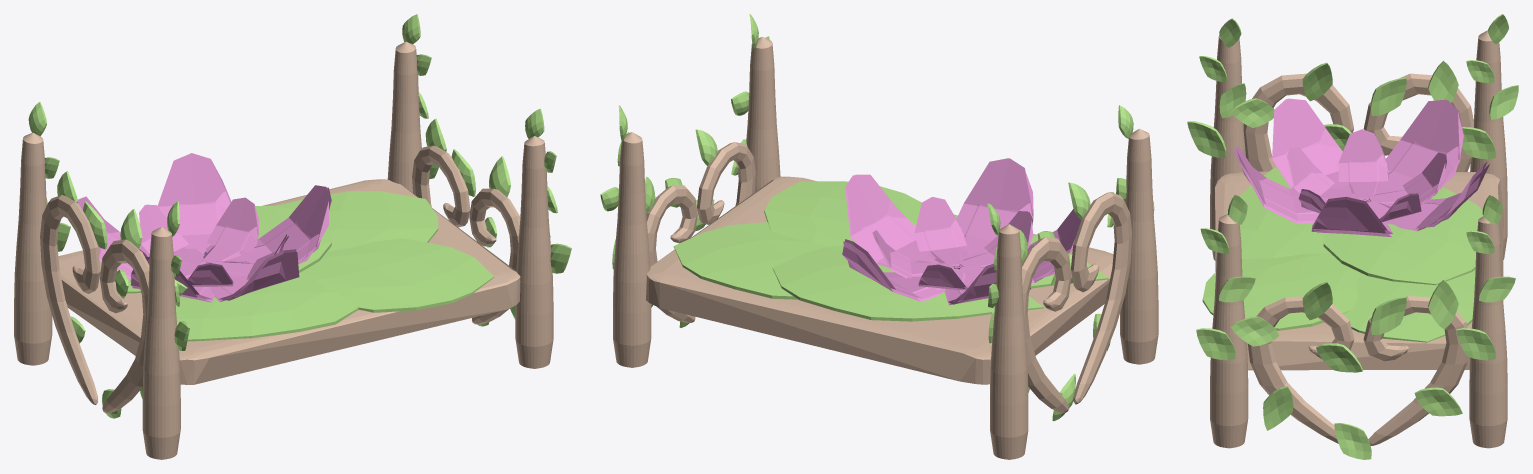
File: bett.fbx
The picture shows the model from 3 angles, left to right: view 1: azimuth 30°, elevation 25°; view 2: azimuth 150°, elevation 25°; view 3: azimuth 270°, elevation 25°; orthographic projection.
Parts seen in each view (by area): view 1: Cube.010; view 2: Cube.010; view 3: Cube.010.
Boxes of the visible parts, <box> form: Cube.010: <box>14,14,571,459</box>; Cube.010: <box>600,14,1158,459</box>; Cube.010: <box>1187,14,1518,459</box>.
Size of the model in its own units: 232 by 143 by 161.
